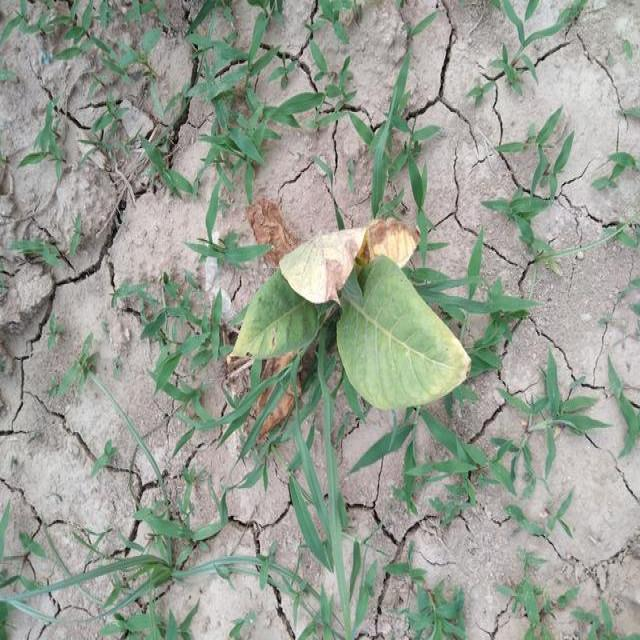crop: (235, 207, 470, 426)
